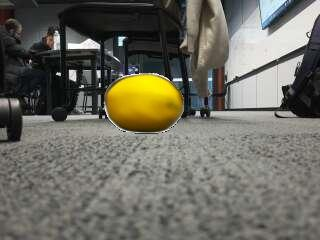lemon: (107, 75, 183, 131)
